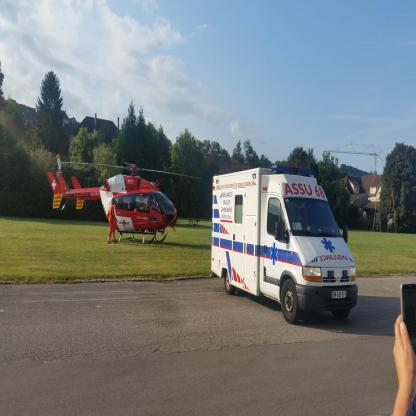Ambulance - v1 Ambulance last generate: (205, 162, 369, 331)
